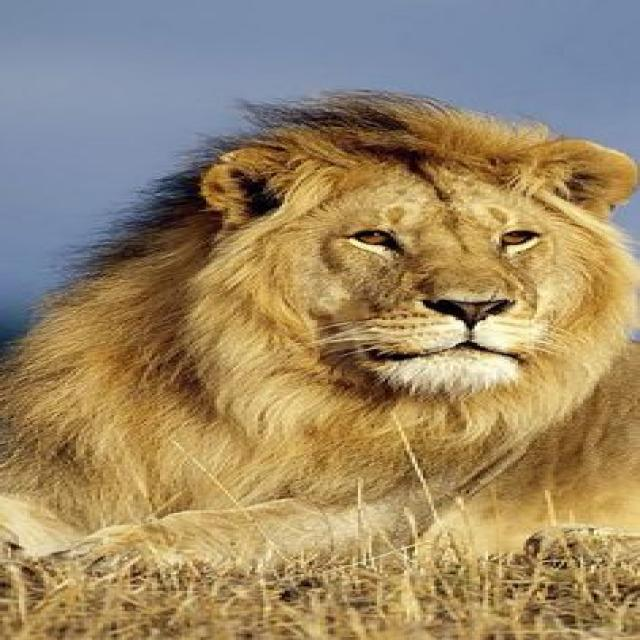lions: (23, 47, 640, 614)
